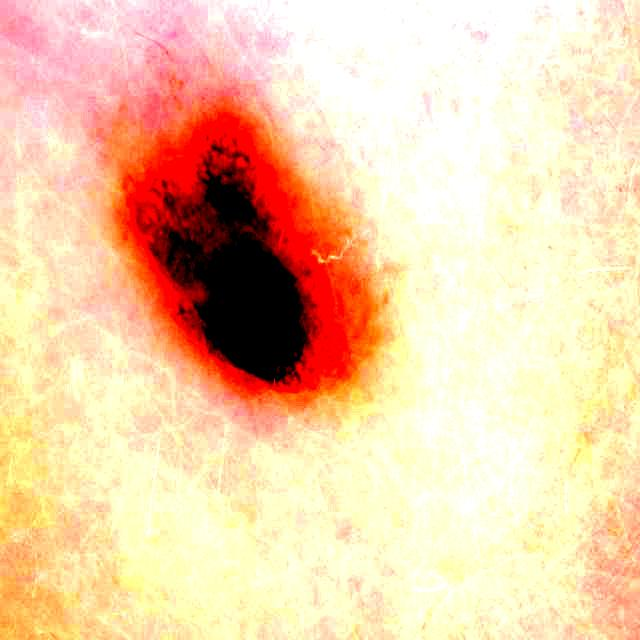NV: (128, 121, 348, 386)
